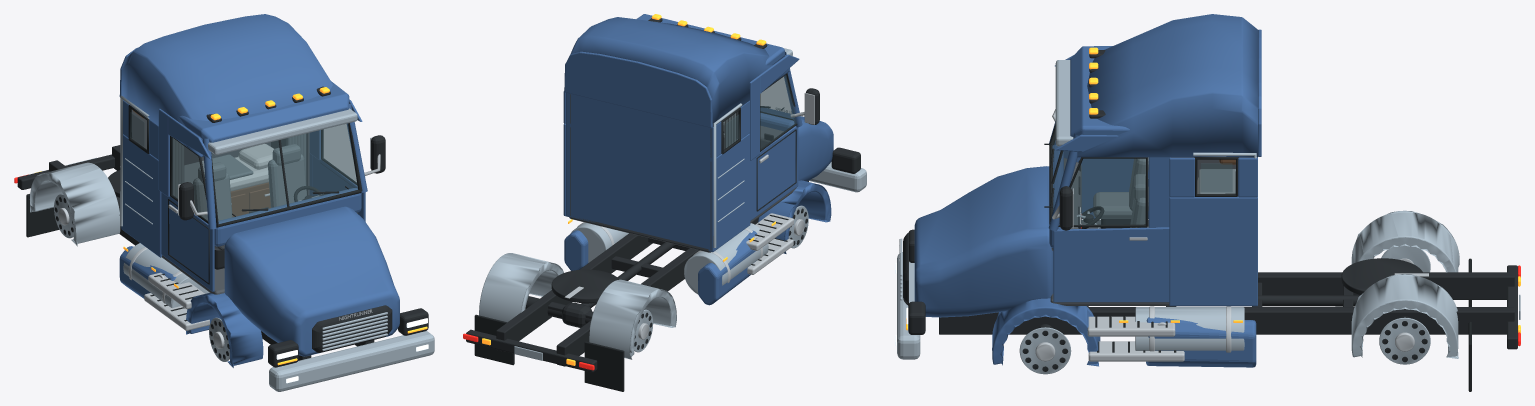
File: Nightrunner.fbx
3 renders of one model, left to right at view 1: azimuth 30°, elevation 25°; view 2: azimuth 150°, elevation 25°; view 3: azimuth 270°, elevation 25°, orthographic. The views are drawn at different scales.
Visible parts, largest first — view 1: CabExterior__TT_Paint_Primary, Chassis__TT_Paint_Primary, Chassis__TT_MetalTrim, CabExterior__TT_Glass, CabInterior__TT_Fabric, Chassis__TT_Chassis, CabExterior__TT_MetalTrim, CabExterior__TT_Rubber, CabExterior__TT_Chrome, CabInterior__TT_Interior, CabExterior__TT_Chassis, CabInterior__TT_Bedding (+5 smaller); view 2: CabExterior__TT_Paint_Primary, Chassis__TT_MetalTrim, Chassis__TT_Chassis, Chassis__TT_Paint_Primary, Chassis__TT_Rubber, CabExterior__TT_Glass, CabExterior__TT_Chrome, CabInterior__TT_Interior, CabExterior__TT_Rubber, CabExterior__TT_MetalTrim, Chassis__TT_Chrome, CabInterior__TT_Fabric (+3 smaller); view 3: CabExterior__TT_Paint_Primary, Chassis__TT_Paint_Primary, Chassis__TT_Chassis, Chassis__TT_MetalTrim, CabExterior__TT_Glass, CabExterior__TT_Chrome, CabInterior__TT_Fabric, CabExterior__TT_Rubber, CabExterior__TT_MetalTrim, CabInterior__TT_Interior, Wheel_FL__TT_MetalTrim, Wheel_RL__TT_MetalTrim (+3 smaller).
Boxes of the visible parts, bbox=[...] form: CabExterior__TT_Paint_Primary: bbox=[119, 14, 367, 291]; Chassis__TT_Paint_Primary: bbox=[119, 206, 399, 367]; Chassis__TT_MetalTrim: bbox=[30, 157, 434, 391]; CabExterior__TT_Glass: bbox=[130, 112, 357, 223]; CabInterior__TT_Fabric: bbox=[172, 134, 306, 220]; Chassis__TT_Chassis: bbox=[17, 145, 428, 367]; CabExterior__TT_MetalTrim: bbox=[120, 95, 357, 226]; CabExterior__TT_Rubber: bbox=[128, 105, 362, 321]; CabExterior__TT_Chrome: bbox=[144, 154, 380, 330]; CabInterior__TT_Interior: bbox=[131, 109, 358, 294]; CabExterior__TT_Chassis: bbox=[179, 86, 385, 220]; CabInterior__TT_Bedding: bbox=[230, 144, 273, 191]; CabExterior__TT_Paint_Primary: bbox=[563, 14, 802, 252]; Chassis__TT_MetalTrim: bbox=[479, 162, 866, 360]; Chassis__TT_Chassis: bbox=[466, 147, 860, 372]; Chassis__TT_Paint_Primary: bbox=[564, 108, 833, 305]; Chassis__TT_Rubber: bbox=[474, 108, 783, 391]; CabExterior__TT_Glass: bbox=[725, 75, 796, 148]; CabExterior__TT_Chrome: bbox=[746, 112, 804, 274]; CabInterior__TT_Interior: bbox=[569, 94, 796, 252]; CabExterior__TT_Rubber: bbox=[721, 73, 797, 265]; CabExterior__TT_MetalTrim: bbox=[565, 48, 792, 247]; Chassis__TT_Chrome: bbox=[564, 108, 804, 298]; CabInterior__TT_Fabric: bbox=[723, 113, 737, 149]; CabExterior__TT_Paint_Primary: bbox=[1048, 14, 1261, 306]; Chassis__TT_Paint_Primary: bbox=[914, 166, 1256, 367]; Chassis__TT_Chassis: bbox=[903, 229, 1517, 349]; Chassis__TT_MetalTrim: bbox=[897, 210, 1520, 359]; CabExterior__TT_Glass: bbox=[1052, 135, 1232, 224]; CabExterior__TT_Chrome: bbox=[1052, 109, 1184, 361]; CabInterior__TT_Fabric: bbox=[1093, 157, 1235, 227]; CabExterior__TT_Rubber: bbox=[1049, 124, 1238, 352]; CabExterior__TT_MetalTrim: bbox=[1055, 60, 1256, 197]; CabInterior__TT_Interior: bbox=[1050, 157, 1253, 305]; Wheel_FL__TT_MetalTrim: bbox=[1019, 327, 1071, 374]; Wheel_RL__TT_MetalTrim: bbox=[1379, 317, 1430, 364].
Size of the model in its own units: 312 by 394 by 728.
